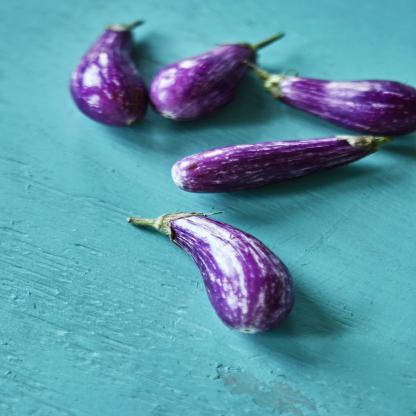eggplant: (132, 215, 296, 335), (243, 66, 416, 138), (173, 136, 384, 194), (154, 34, 287, 122), (70, 20, 152, 128)
